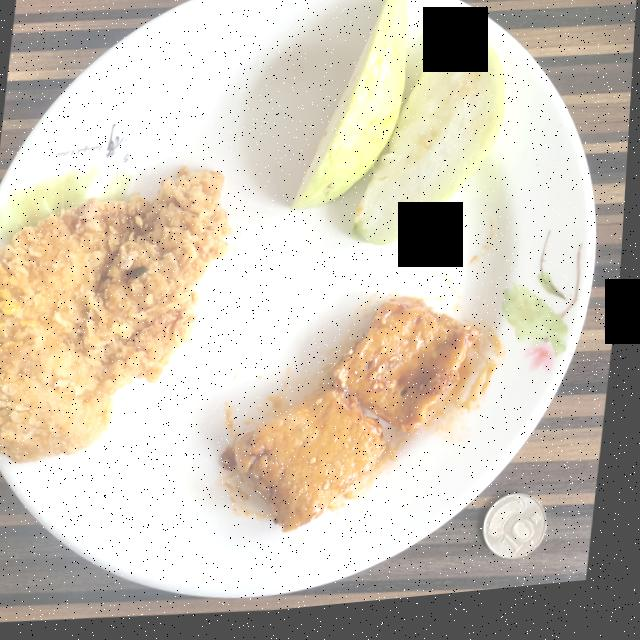coin: (490, 505, 554, 570)
creamy tofu: (228, 306, 486, 538)
fried chicken cutlet: (0, 171, 234, 464)
guava -sliced-: (295, 0, 507, 253)
